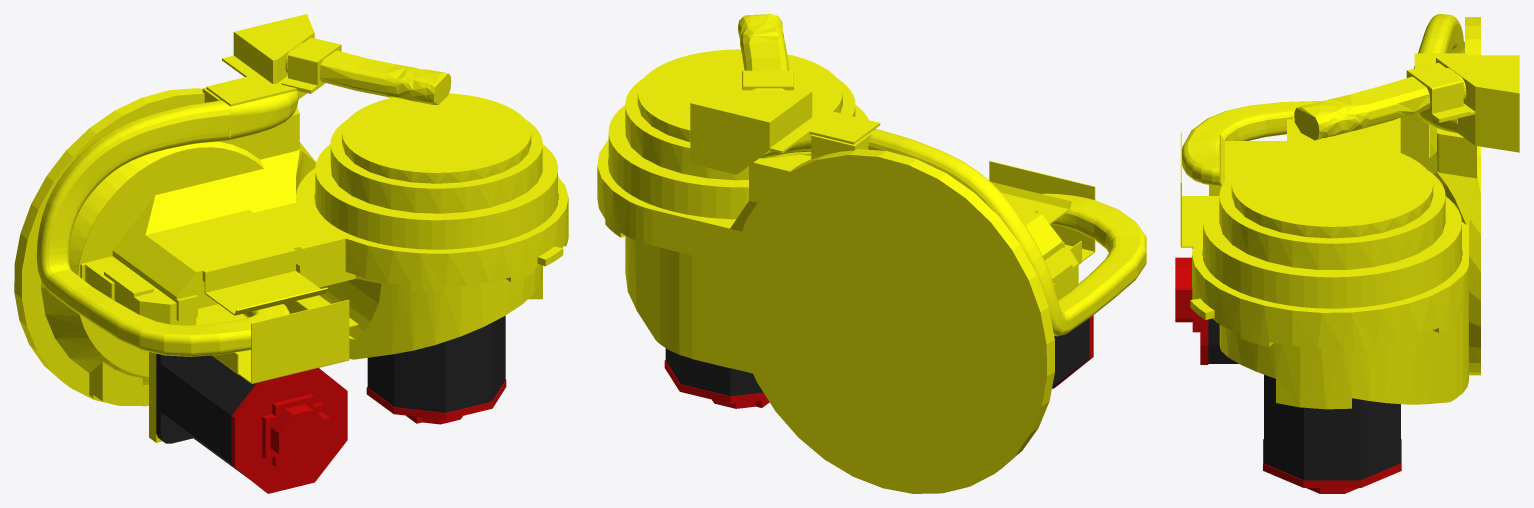
3 renders of one model, left to right at view 1: azimuth 30°, elevation 25°; view 2: azimuth 150°, elevation 25°; view 3: azimuth 270°, elevation 25°, orthographic. The views are drawn at different scales.
Visible parts, largest first — view 1: node; view 2: node; view 3: node.
Part boxes in pixels (x1,y1,x2,y2): node: (14,14,568,493); node: (597,14,1146,493); node: (1175,14,1519,493).
Bounding box in the file's own units: 720 × 509 × 432.
